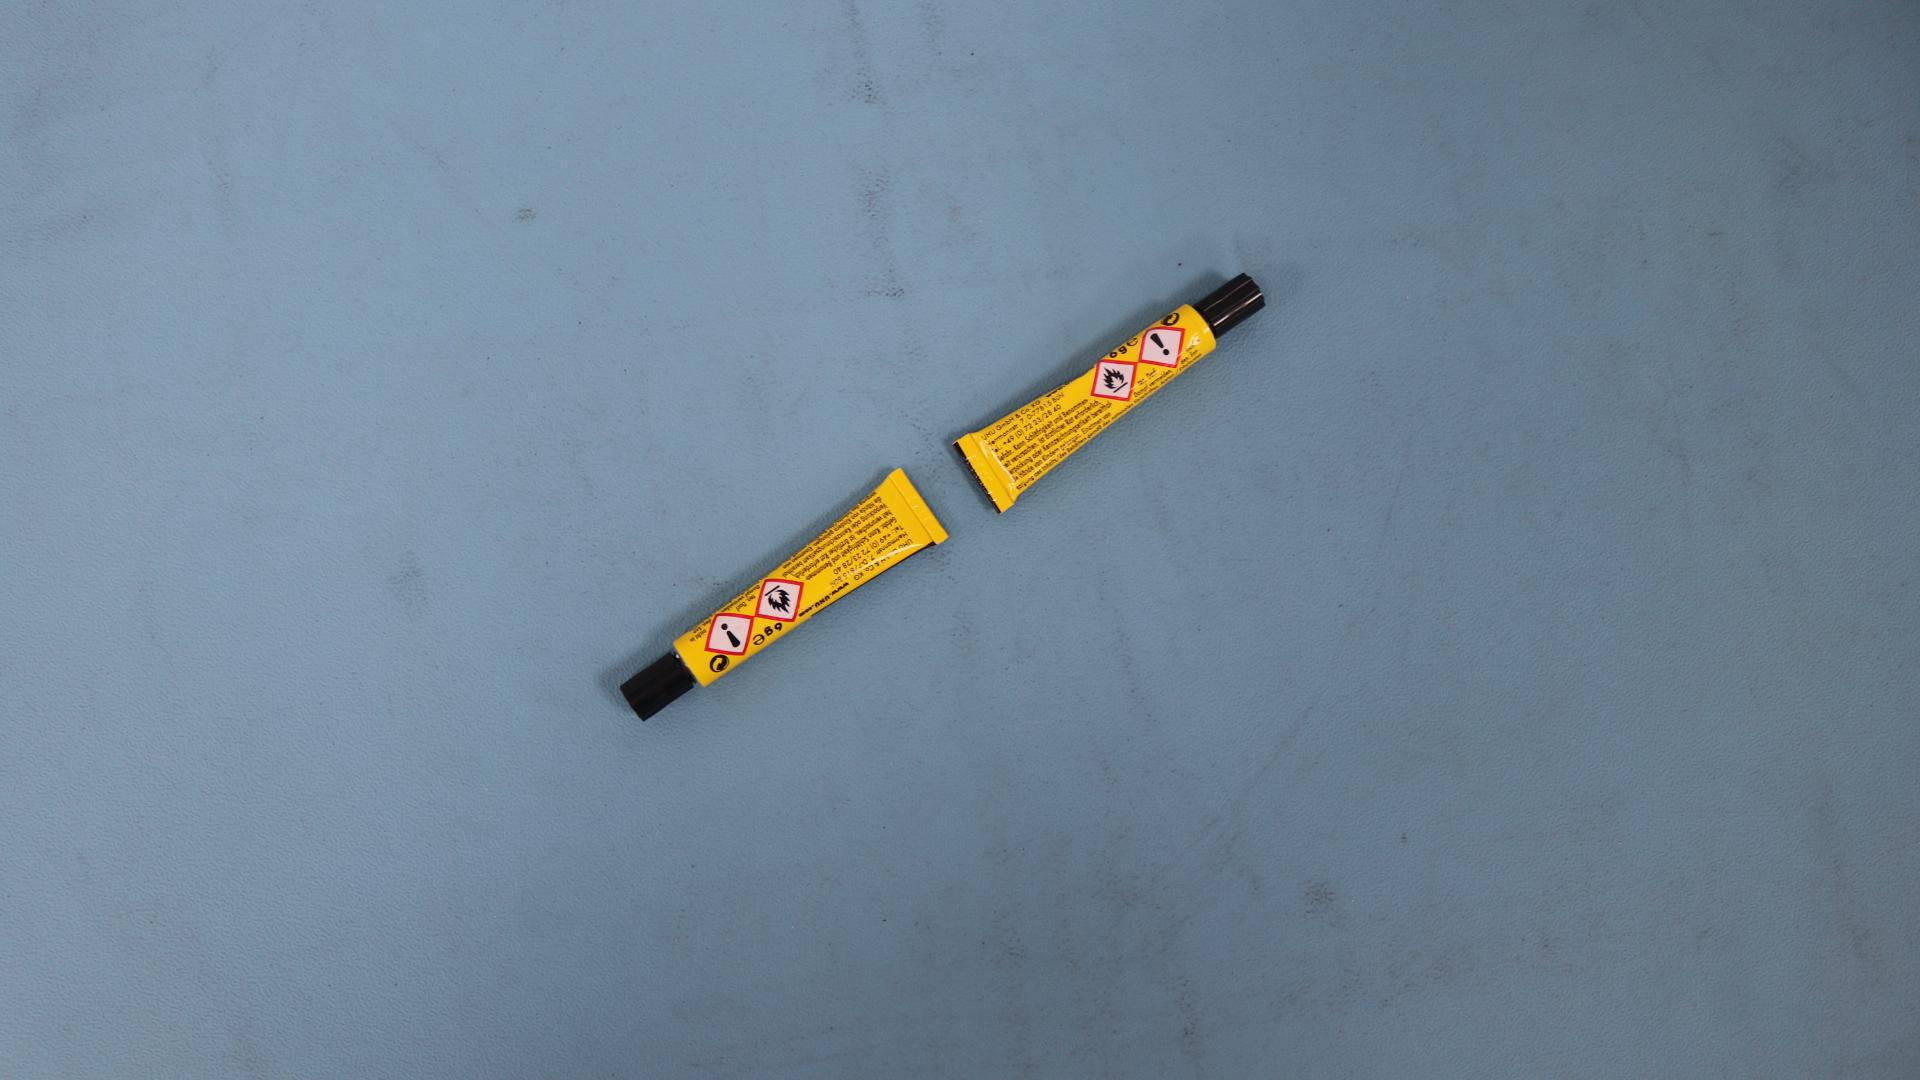Head: (655, 683, 662, 690), (1229, 302, 1235, 309)
Tail: (981, 471, 990, 479), (916, 503, 925, 511)
Tube: (619, 467, 949, 721), (952, 272, 1265, 513)
